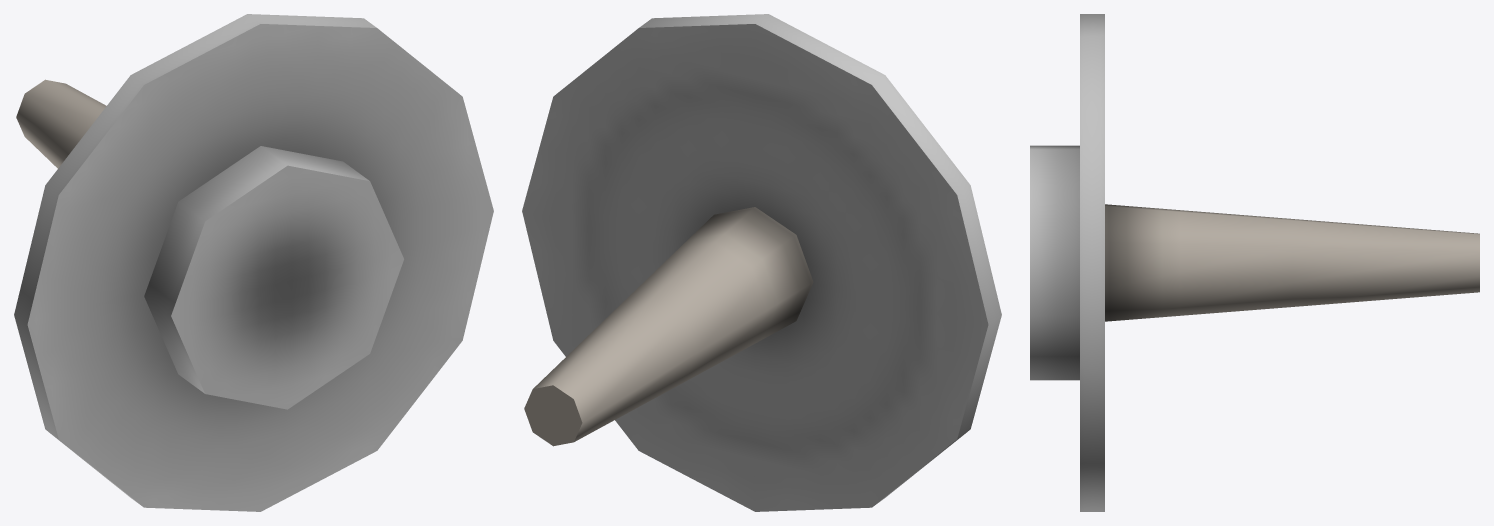
Rendered from Eridani_Antenna_1_Dish.obj.
3 renders of one model, left to right at view 1: azimuth 30°, elevation 25°; view 2: azimuth 150°, elevation 25°; view 3: azimuth 270°, elevation 25°, orthographic. The views are drawn at different scales.
Visible parts, largest first — view 1: Eridani_Antenna_1_Dish; view 2: Eridani_Antenna_1_Dish; view 3: Eridani_Antenna_1_Dish.
Boxes of the visible parts, x1,y1,x2,y2 form: Eridani_Antenna_1_Dish: [14, 14, 493, 511]; Eridani_Antenna_1_Dish: [522, 14, 1001, 511]; Eridani_Antenna_1_Dish: [1030, 14, 1479, 511].
Bounding box in the file's own units: 0.1 × 0.1 × 0.09.
